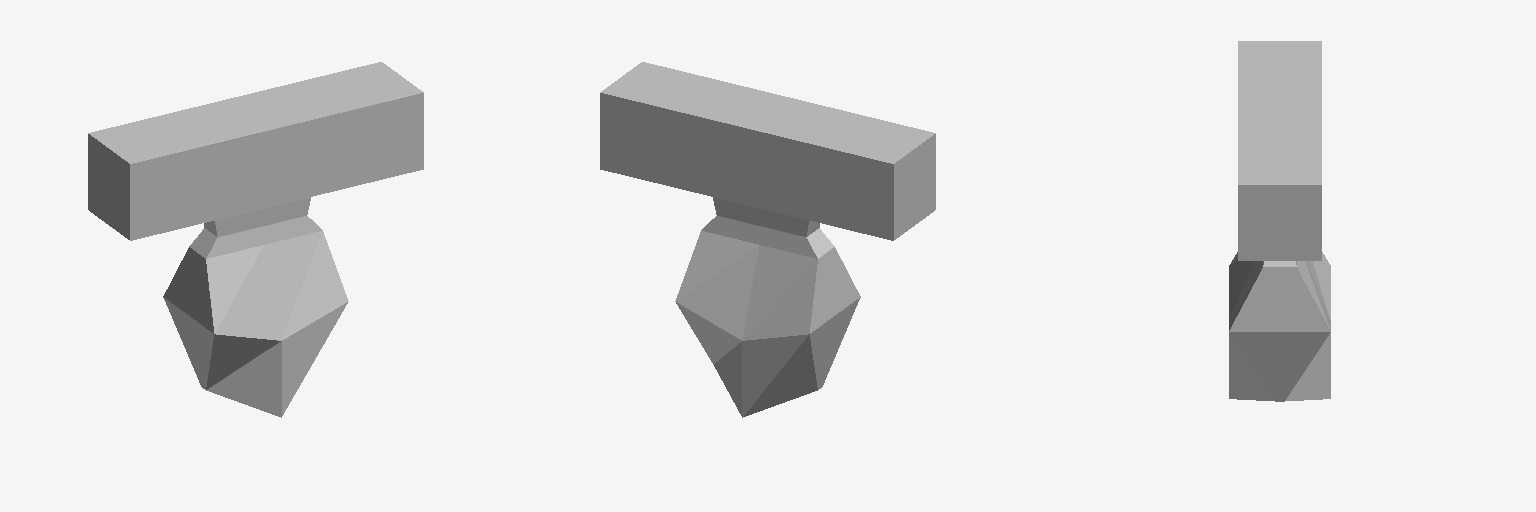
Rendered from Platform.obj.
The picture shows the model from 3 angles: view 1: azimuth 30°, elevation 25°; view 2: azimuth 150°, elevation 25°; view 3: azimuth 270°, elevation 25°; orthographic projection.
Parts seen in each view (by area): view 1: Cube_Cube.002; view 2: Cube_Cube.002; view 3: Cube_Cube.002.
Part boxes in pixels (x1,y1,x2,y2): Cube_Cube.002: (88,62,423,417); Cube_Cube.002: (600,62,935,417); Cube_Cube.002: (1229,41,1330,401).
Size of the model in its own units: 8 by 7.45 by 2.42.